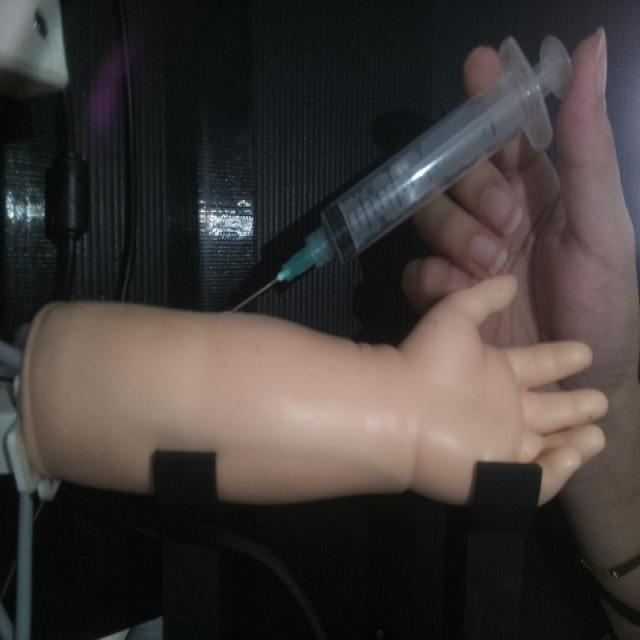Outside: (226, 33, 578, 316)
